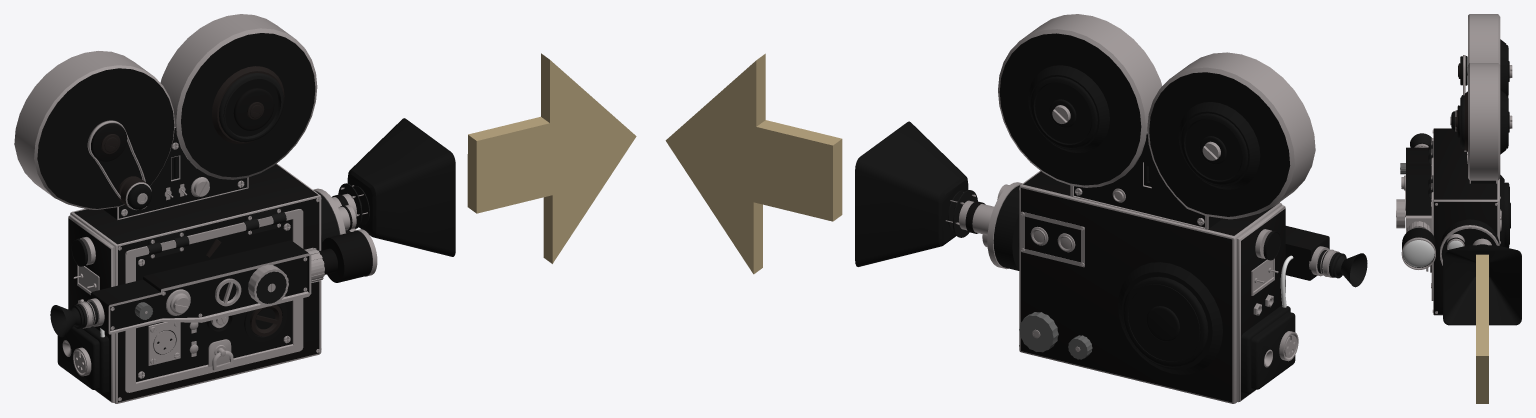
The model's file is StandhereMesh.fbx.
3 renders of one model, left to right at view 1: azimuth 30°, elevation 25°; view 2: azimuth 150°, elevation 25°; view 3: azimuth 270°, elevation 25°, orthographic. The views are drawn at different scales.
Visible parts, largest first — view 1: Circle.001, Line001, Circle, Cube, Cube.002, Plane, Cube.003, Cube.004, Cube.009, Cylinder.010, Circle.004, Cube.008 (+12 smaller); view 2: Cube, Line001, Circle.001, Circle, Plane, Cylinder.017, Cube.009, Cube.004, Cylinder.016, Cylinder.028, Cylinder.013, Cube.008 (+11 smaller); view 3: Cube, Plane, Circle, Line001, Cube.003, Circle.001, Circle.006, Sphere.002, Cylinder.027, Cylinder.017, Circle.004, Cylinder.001 (+14 smaller).
Boxes of the visible parts, bbox=[...] form: Circle.001: bbox=[14, 51, 174, 209]; Line001: bbox=[467, 53, 636, 263]; Circle: bbox=[160, 14, 317, 179]; Cube: bbox=[70, 163, 321, 403]; Cube.002: bbox=[125, 209, 303, 392]; Plane: bbox=[347, 118, 455, 256]; Cube.003: bbox=[91, 240, 311, 334]; Cube.004: bbox=[103, 127, 246, 219]; Cube.009: bbox=[68, 215, 114, 402]; Cylinder.010: bbox=[219, 73, 283, 142]; Circle.004: bbox=[321, 231, 372, 282]; Cube.008: bbox=[57, 326, 99, 389]; Cube: bbox=[1019, 170, 1282, 403]; Line001: bbox=[665, 53, 842, 274]; Circle.001: bbox=[1147, 52, 1315, 219]; Circle: bbox=[998, 14, 1161, 187]; Plane: bbox=[855, 121, 968, 266]; Cylinder.017: bbox=[1123, 276, 1208, 367]; Cube.009: bbox=[1236, 205, 1285, 402]; Cube.004: bbox=[1070, 132, 1222, 229]; Cylinder.016: bbox=[1118, 262, 1222, 374]; Cylinder.028: bbox=[1030, 76, 1097, 148]; Cylinder.013: bbox=[1180, 113, 1248, 185]; Cube.008: bbox=[1251, 312, 1295, 389]; Cube: bbox=[1433, 128, 1499, 315]; Plane: bbox=[1443, 245, 1521, 325]; Circle: bbox=[1468, 63, 1500, 180]; Line001: bbox=[1476, 254, 1488, 403]; Cube.003: bbox=[1406, 147, 1431, 232]; Circle.001: bbox=[1468, 14, 1500, 64]; Circle.006: bbox=[1440, 219, 1499, 259]; Sphere.002: bbox=[1403, 240, 1434, 267]; Cylinder.027: bbox=[1500, 90, 1506, 154]; Cylinder.017: bbox=[1504, 182, 1509, 247]; Circle.004: bbox=[1402, 228, 1435, 267]; Cylinder.001: bbox=[1500, 39, 1506, 93].
Size of the model in its own units: 39.66 by 19.59 by 9.72.
